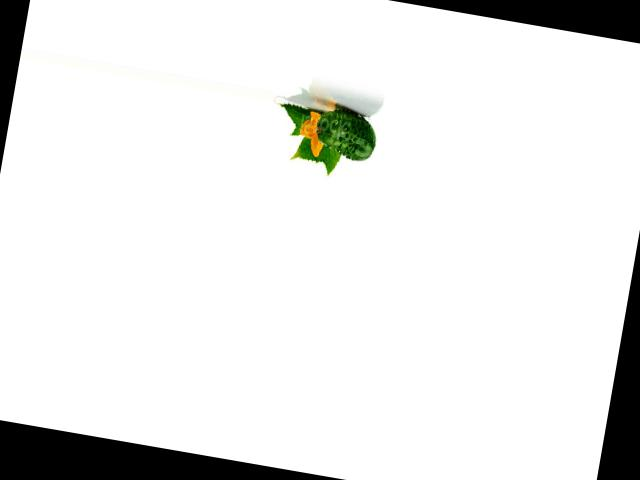cucumber: (313, 106, 380, 163)
